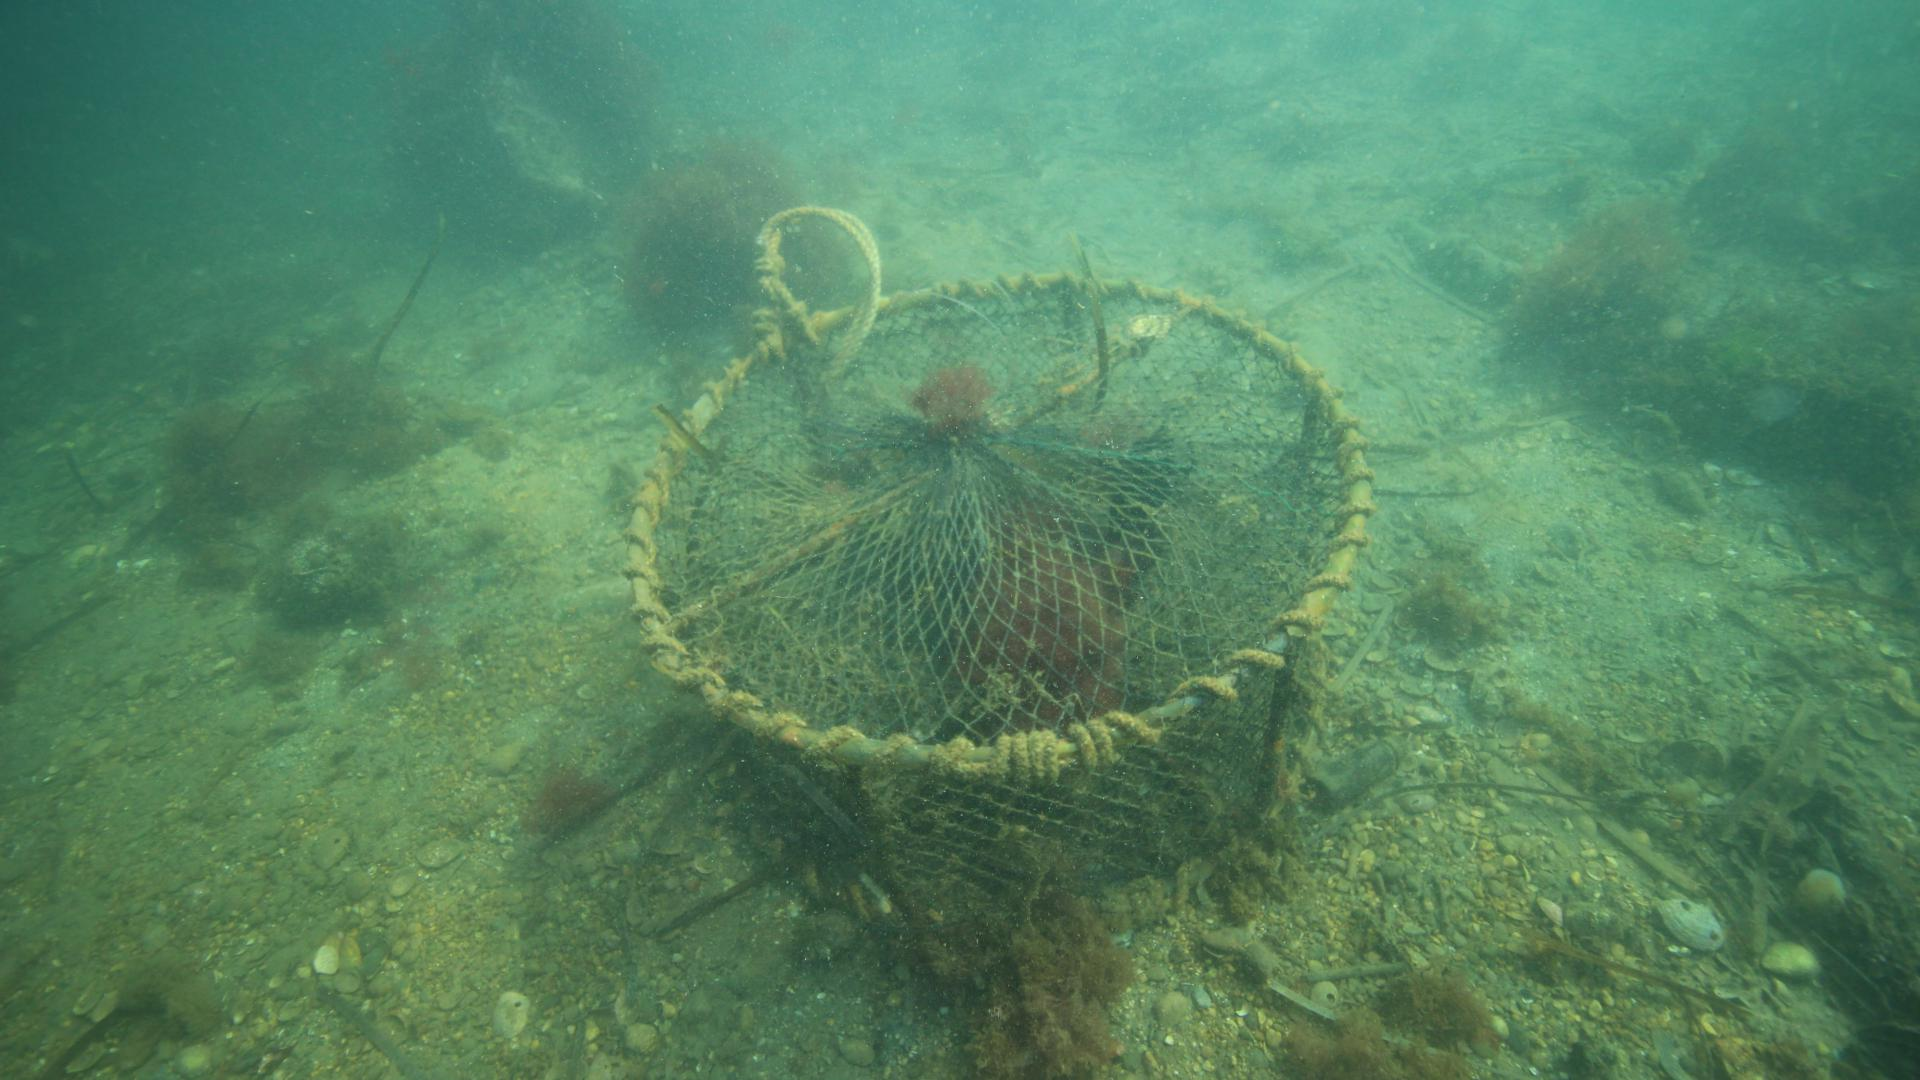bundle of ropes: (750, 202, 884, 378)
circular fish trap: (620, 266, 1375, 938)
